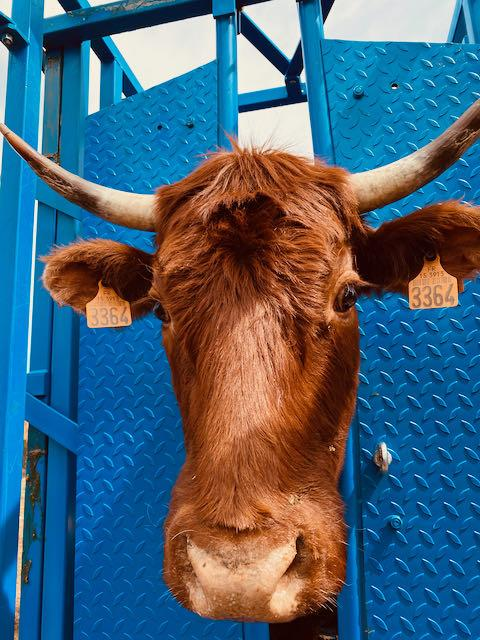muzzles: (151, 528, 353, 628)
